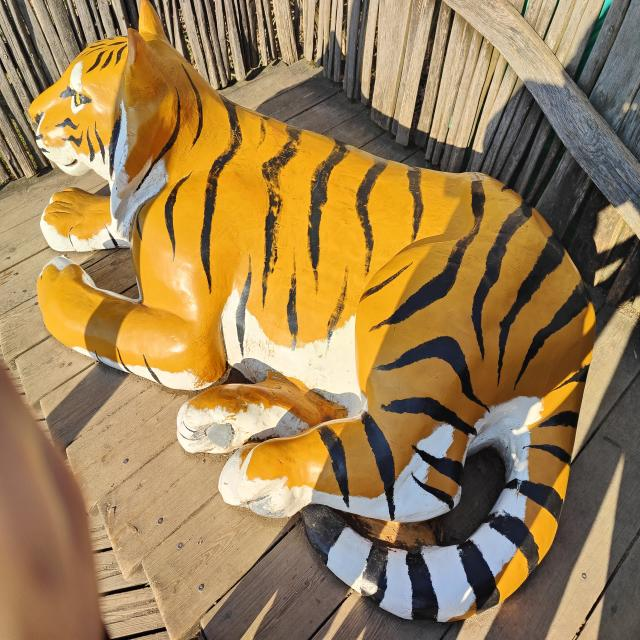tiger: (27, 0, 596, 622)
